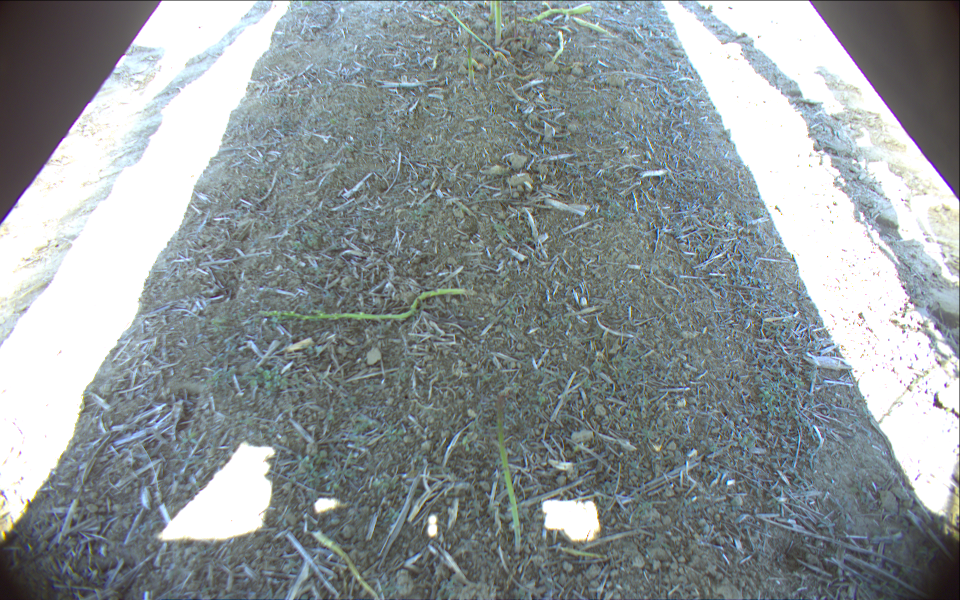aspa: (490, 396, 524, 554), (465, 35, 477, 88), (492, 1, 504, 46)
